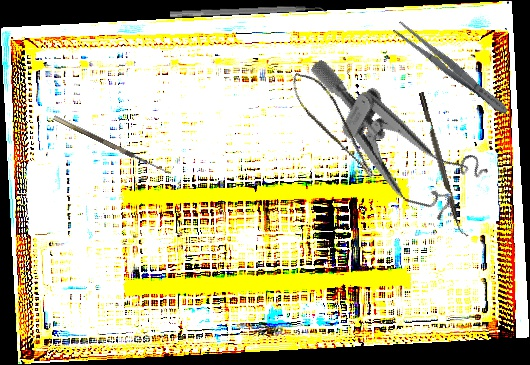Chopper: (418, 90, 470, 239)
Dressing Forceps: (391, 19, 512, 119)
Hook Surgical: (52, 109, 175, 177)
Micro Scissor: (285, 63, 378, 190)
Spatula Surgical: (169, 2, 328, 25)
Speculum: (276, 57, 499, 231)
